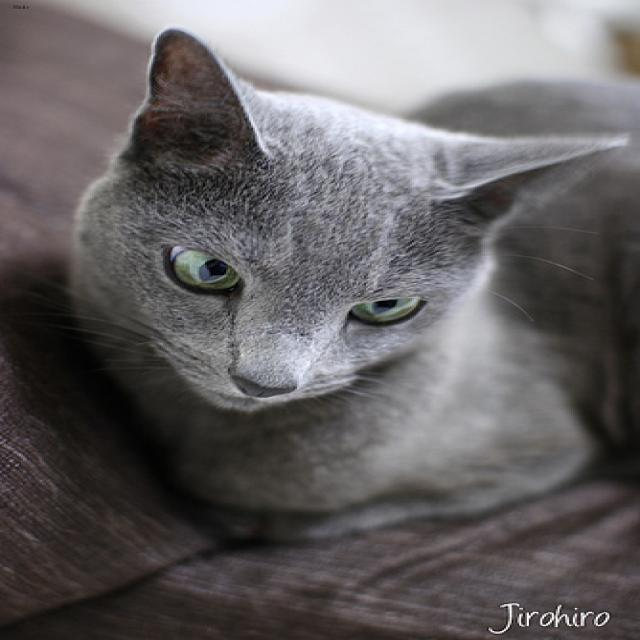Russian_Blue: (71, 25, 640, 418)
